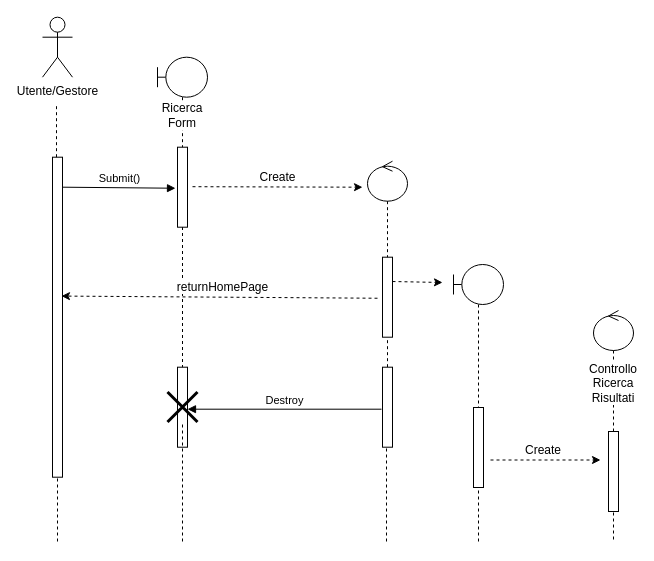
Some shapes in this 654 by 561 pixel diagram are drawn without their labels. Each missing label, with the centre of its shape:
Control Ricerca: the point at 387,208
Visualizza Risultati Ricerca Button: the point at 478,403
